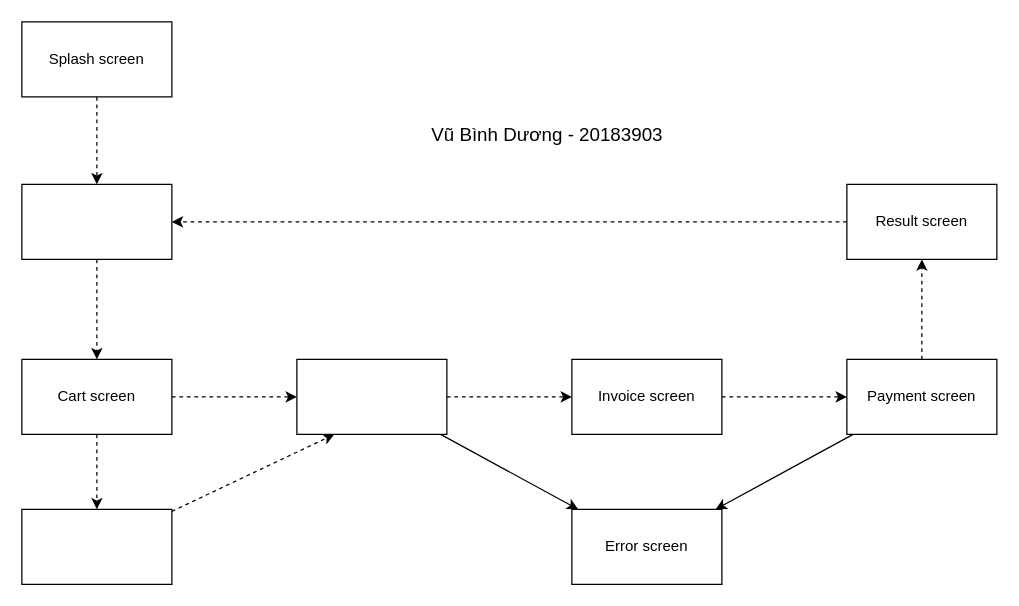
Some shapes in this 1019 by 606 pixel diagram are drawn without their labels. Here are the shapes that lost their labels. From the top down, the centre of each, then its label:
pixel 96 221: Home screen
pixel 371 396: Delivery form
pixel 96 546: Place rush order Screen
